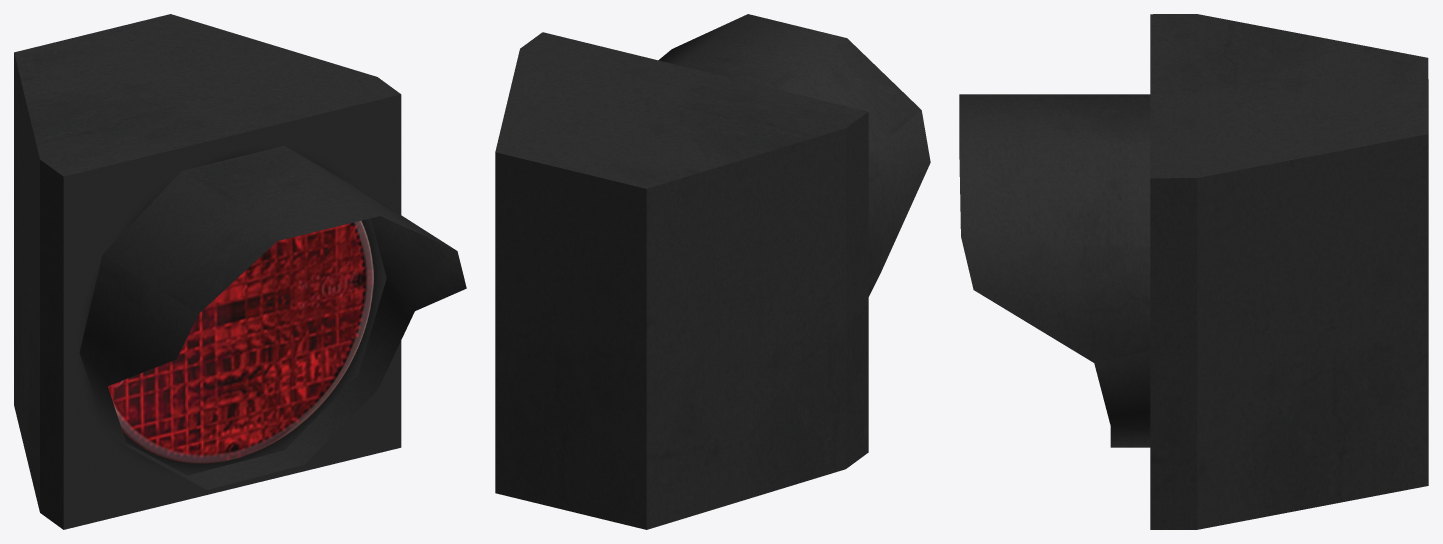
Rendered from Traffic light_Red_.FBX.
3 views of the same model, side by side, from view 1: azimuth 30°, elevation 25°; view 2: azimuth 150°, elevation 25°; view 3: azimuth 270°, elevation 25° (orthographic). The views are drawn at different scales.
Visible parts, largest first — view 1: Traffic light_Red_; view 2: Traffic light_Red_; view 3: Traffic light_Red_.
Part boxes in pixels (box(x1,y1,x2,y2)): Traffic light_Red_: box(14, 14, 466, 529); Traffic light_Red_: box(495, 14, 930, 529); Traffic light_Red_: box(959, 14, 1428, 529).
Bounding box in the file's own units: 0.2507 × 0.2507 × 0.3032.
